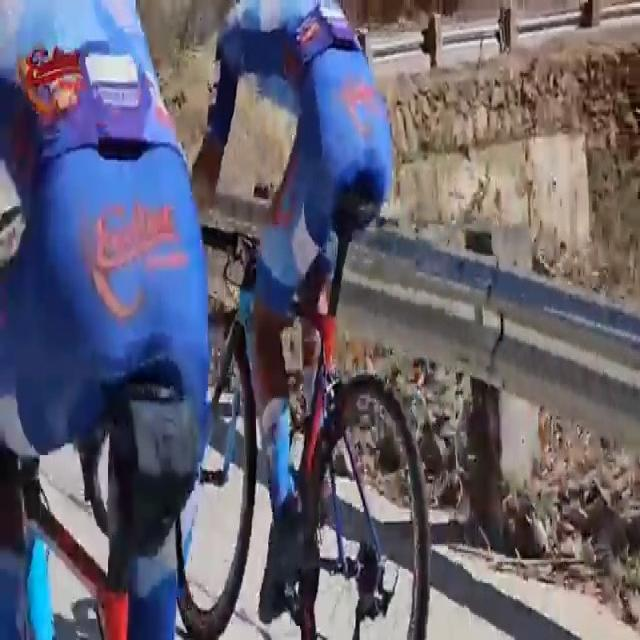bike: (183, 0, 436, 640)
